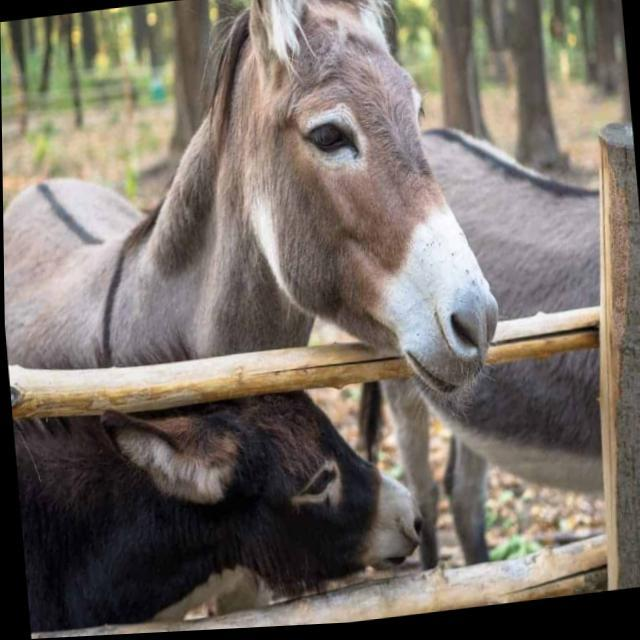Donkey: (0, 0, 519, 638), (328, 110, 631, 584), (10, 365, 428, 640)
